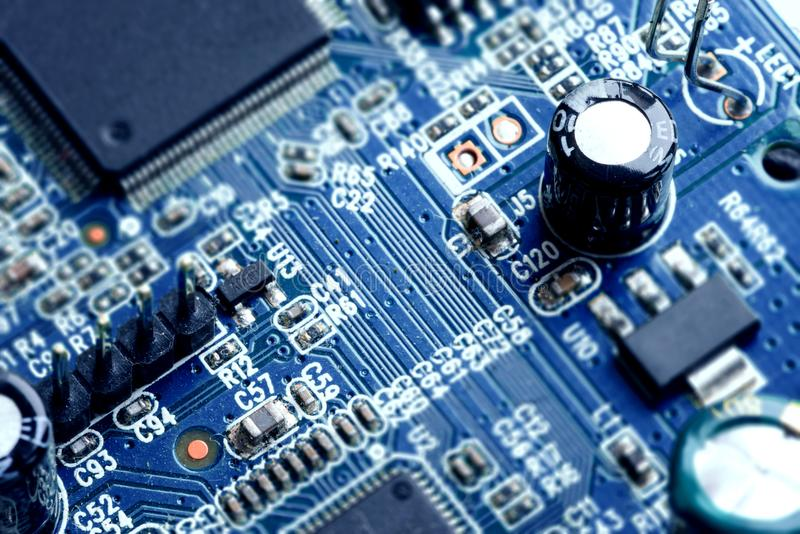capacitor: (534, 65, 684, 282)
